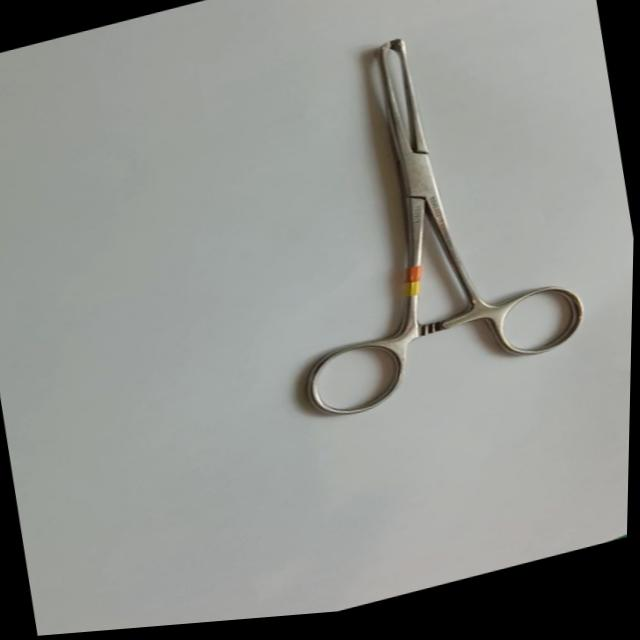AllisForcep: (246, 3, 600, 436)
